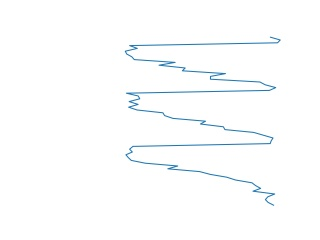distributaryMouthBar: (123, 36, 282, 207)
